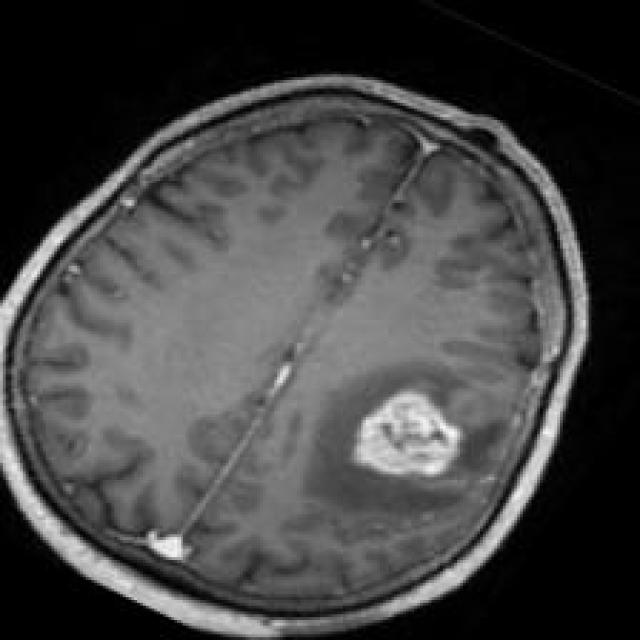glioma_tumor: (289, 339, 516, 528)
